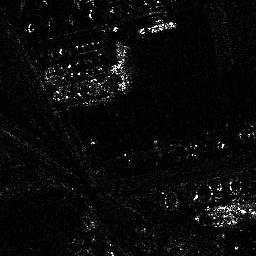ship: (138, 19, 181, 35)
